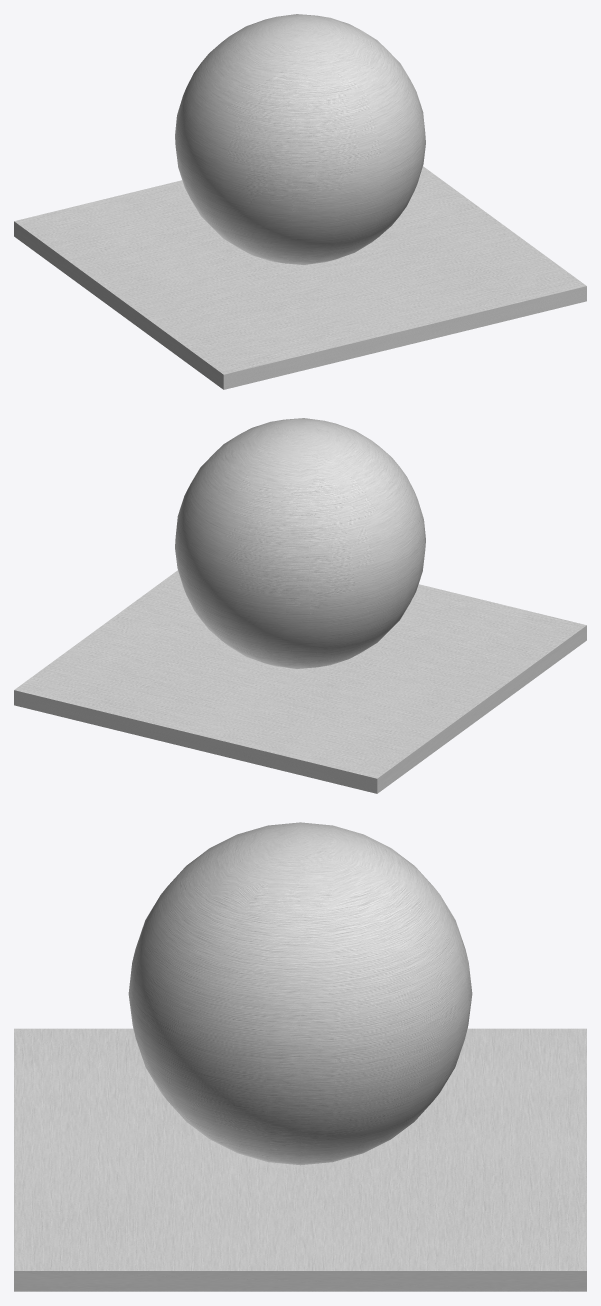
File: Section_01_Group.gltf
The picture shows the model from 3 angles, top to bottom: view 1: azimuth 30°, elevation 25°; view 2: azimuth 150°, elevation 25°; view 3: azimuth 270°, elevation 25°; orthographic projection. The views are drawn at different scales.
Parts seen in each view (by area): view 1: node_Section_01_Floor_-73849550, node_Section_01_3D_Mesh_-73849548; view 2: node_Section_01_Floor_-73849550, node_Section_01_3D_Mesh_-73849548; view 3: node_Section_01_Floor_-73849550, node_Section_01_3D_Mesh_-73849548.
Part boxes in pixels (x1,y1,x2,y2): node_Section_01_Floor_-73849550: [14, 166, 586, 389]; node_Section_01_3D_Mesh_-73849548: [175, 14, 425, 264]; node_Section_01_Floor_-73849550: [14, 570, 586, 793]; node_Section_01_3D_Mesh_-73849548: [175, 418, 425, 668]; node_Section_01_Floor_-73849550: [14, 1028, 586, 1291]; node_Section_01_3D_Mesh_-73849548: [128, 822, 472, 1165].
Bounding box in the file's own units: 5 × 3.2 × 5.
1 material, 1 textured.
